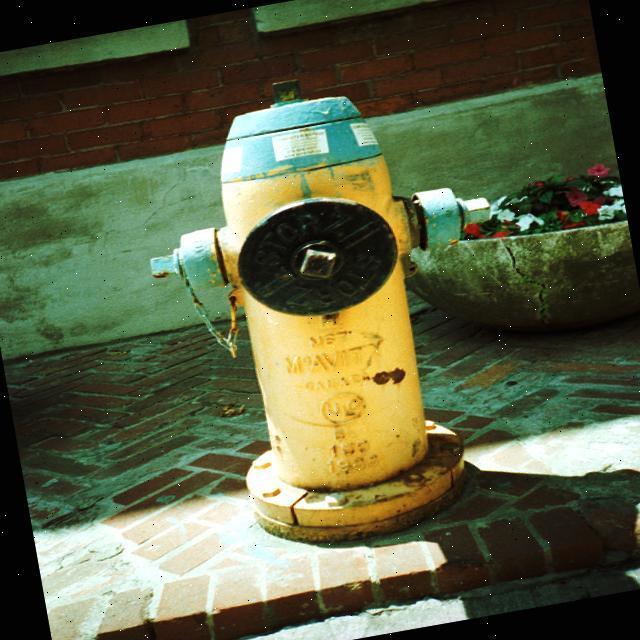fire_hydrant: (117, 50, 548, 570)
